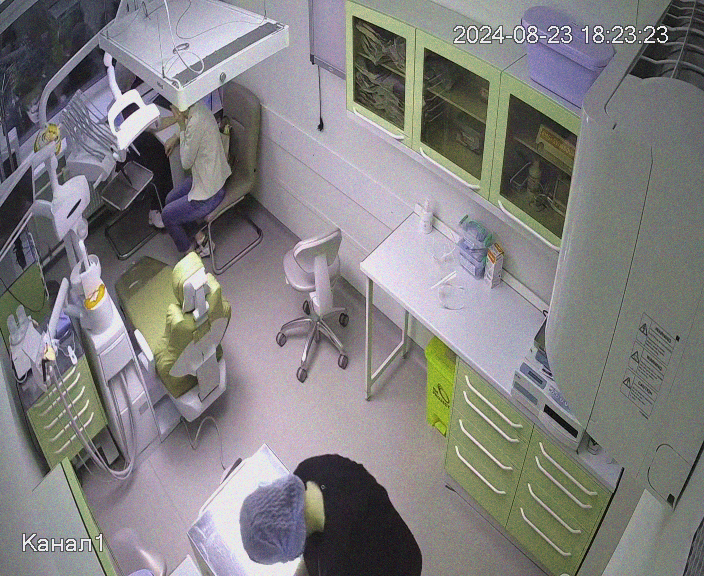Empty: (110, 254, 235, 421)
